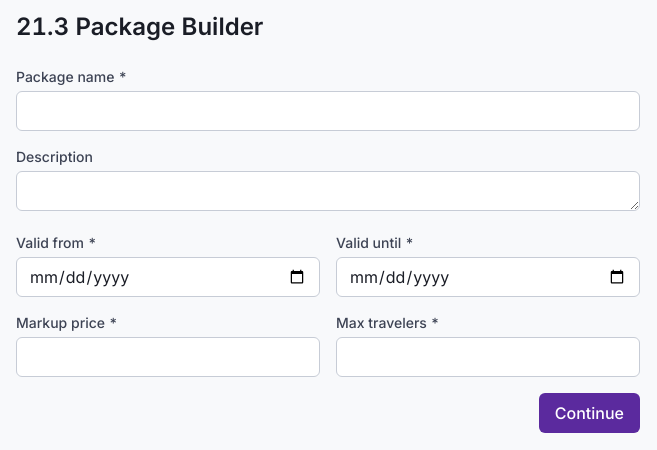
Test: PackageBuilder › shows the pre-payment credit-limit breach warning before Publish when the package would breach it (FIN-09)
Type "Goa Getaway" into the field labelled "Package name *" at (328,111), box [16,91,640,131]
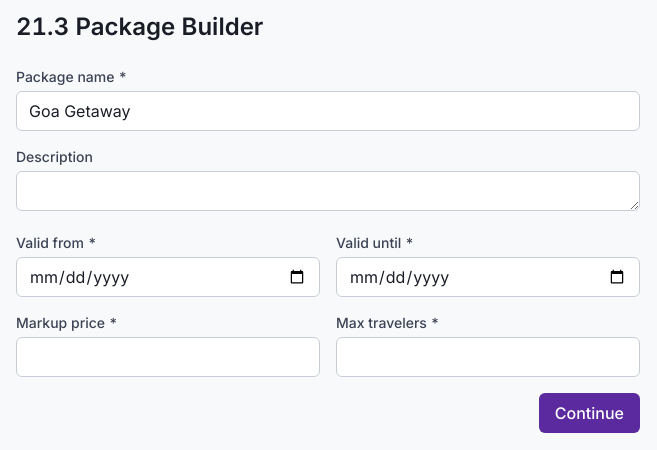
Type "2026-08-01" into the date field labelled "Valid from *" at (168,277), box [16,257,320,297]
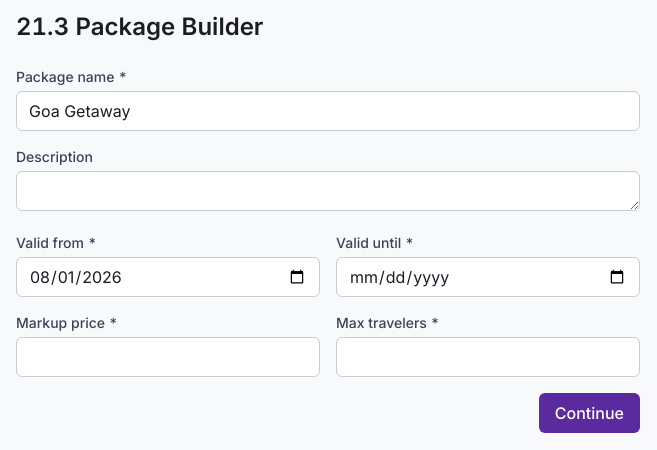
Type "2026-09-01" into the date field labelled "Valid until *" at (488,277), box [336,257,640,297]
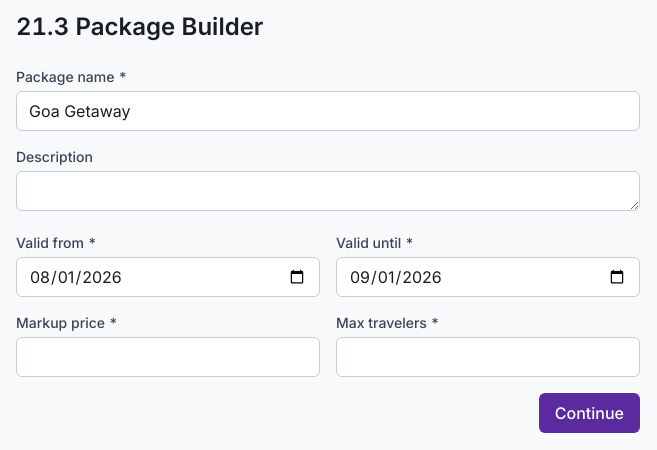
Type "500" into the field labelled "Markup price *" at (168,357), box [16,337,320,377]
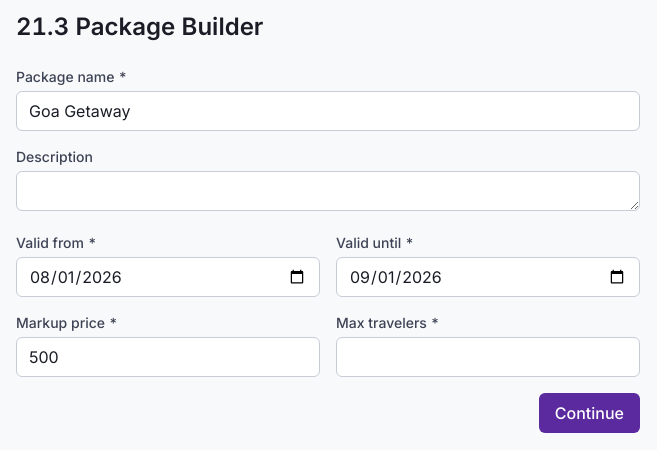
Type "4" into the field labelled "Max travelers *" at (488,357), box [336,337,640,377]
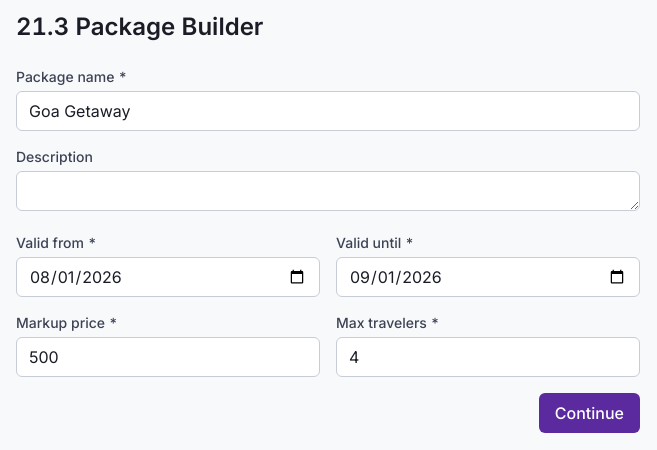
Click the button "Continue" at (589,413), box [539,393,640,433]
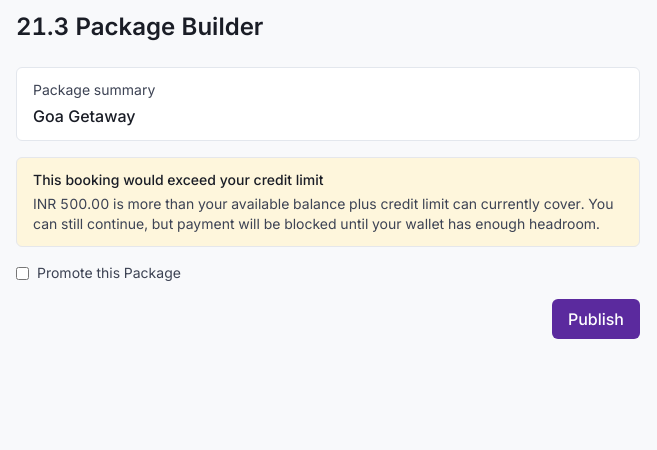
Check: the text "This booking would exceed your credit limit" is shown, box [33,171,324,188]
